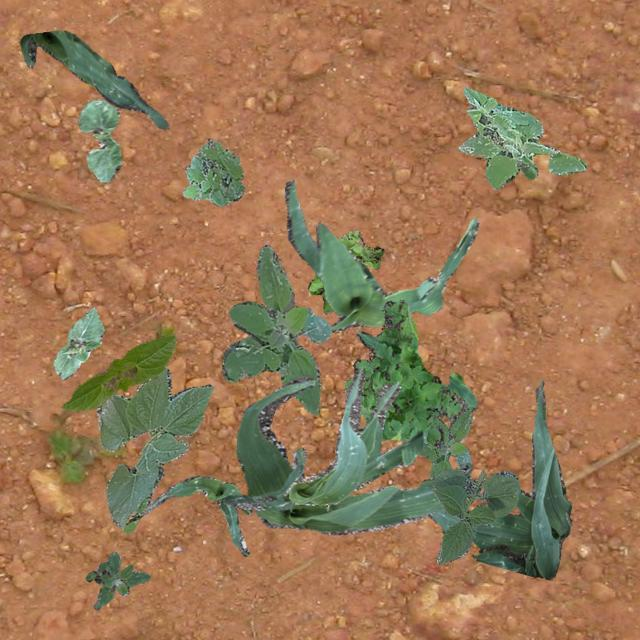crop: (236, 374, 472, 534), (284, 179, 478, 331), (222, 366, 426, 510), (426, 380, 570, 578), (96, 366, 212, 532), (19, 30, 168, 128), (142, 474, 250, 556), (430, 468, 520, 564), (61, 334, 176, 409), (52, 306, 104, 378), (78, 99, 120, 182)
weed: (344, 299, 476, 446), (220, 243, 330, 414), (458, 85, 586, 188), (306, 228, 384, 312), (182, 140, 244, 204), (84, 550, 150, 608), (418, 408, 470, 478)
